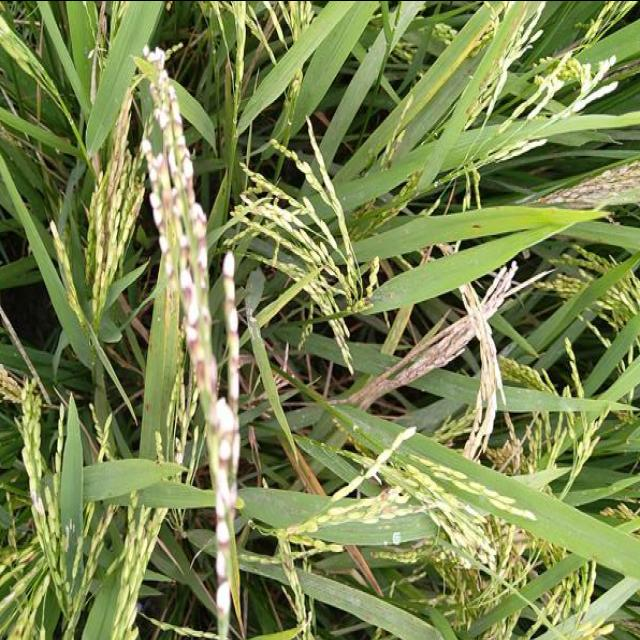Panicle Blight: (189, 201, 207, 235), (279, 545, 294, 581), (178, 241, 192, 273), (186, 333, 200, 364), (209, 353, 218, 399), (194, 356, 207, 387), (162, 189, 178, 211), (179, 281, 194, 303), (375, 486, 393, 504), (379, 504, 401, 517), (129, 199, 141, 221), (222, 425, 238, 439), (221, 270, 235, 286), (197, 261, 208, 281), (227, 396, 238, 415), (195, 235, 208, 251), (156, 159, 169, 175), (183, 177, 194, 195), (229, 504, 237, 521), (230, 329, 239, 343), (189, 320, 200, 331), (230, 356, 238, 370), (127, 530, 135, 544), (219, 458, 230, 468), (175, 142, 186, 151), (217, 575, 226, 584), (218, 540, 229, 547), (217, 606, 224, 616), (216, 512, 223, 522), (229, 298, 235, 307)
